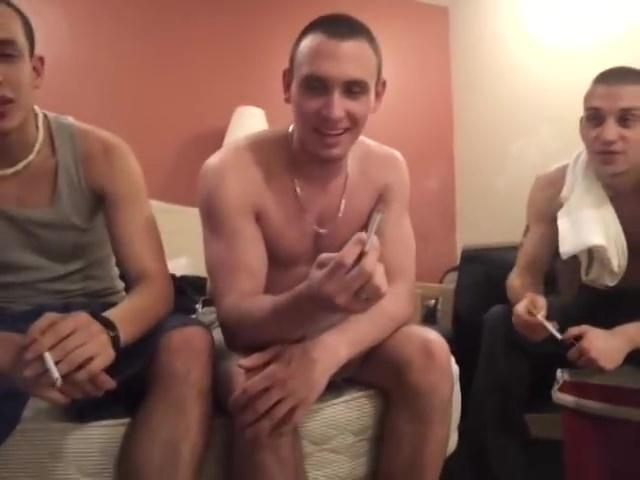cigarette: (524, 301, 564, 339), (360, 205, 386, 262), (37, 347, 69, 387)
